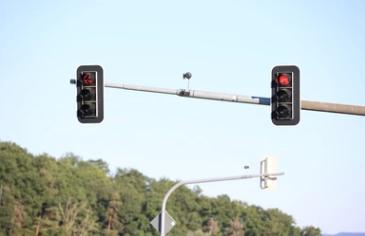red_light: (271, 64, 300, 126), (76, 64, 104, 123)
